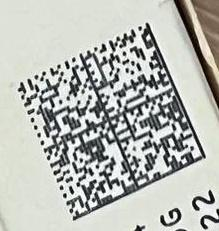datamatrix: (19, 22, 207, 222)
